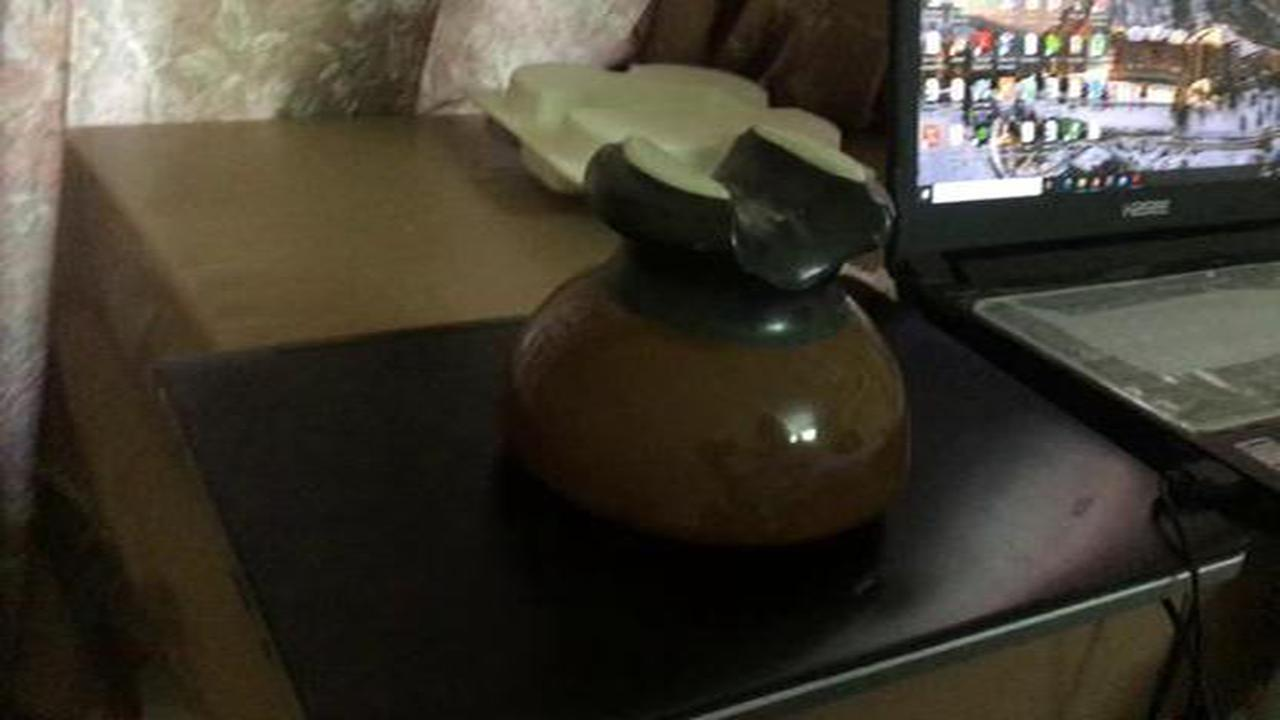insulator_pin: (484, 115, 951, 566)
